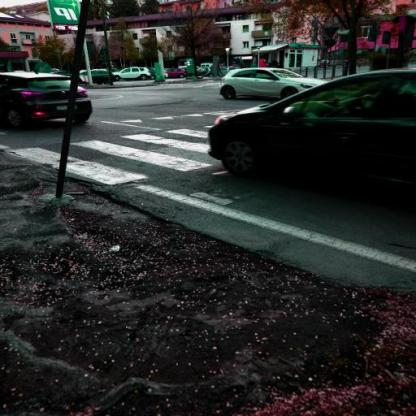crosswalk: (1, 123, 211, 198)
